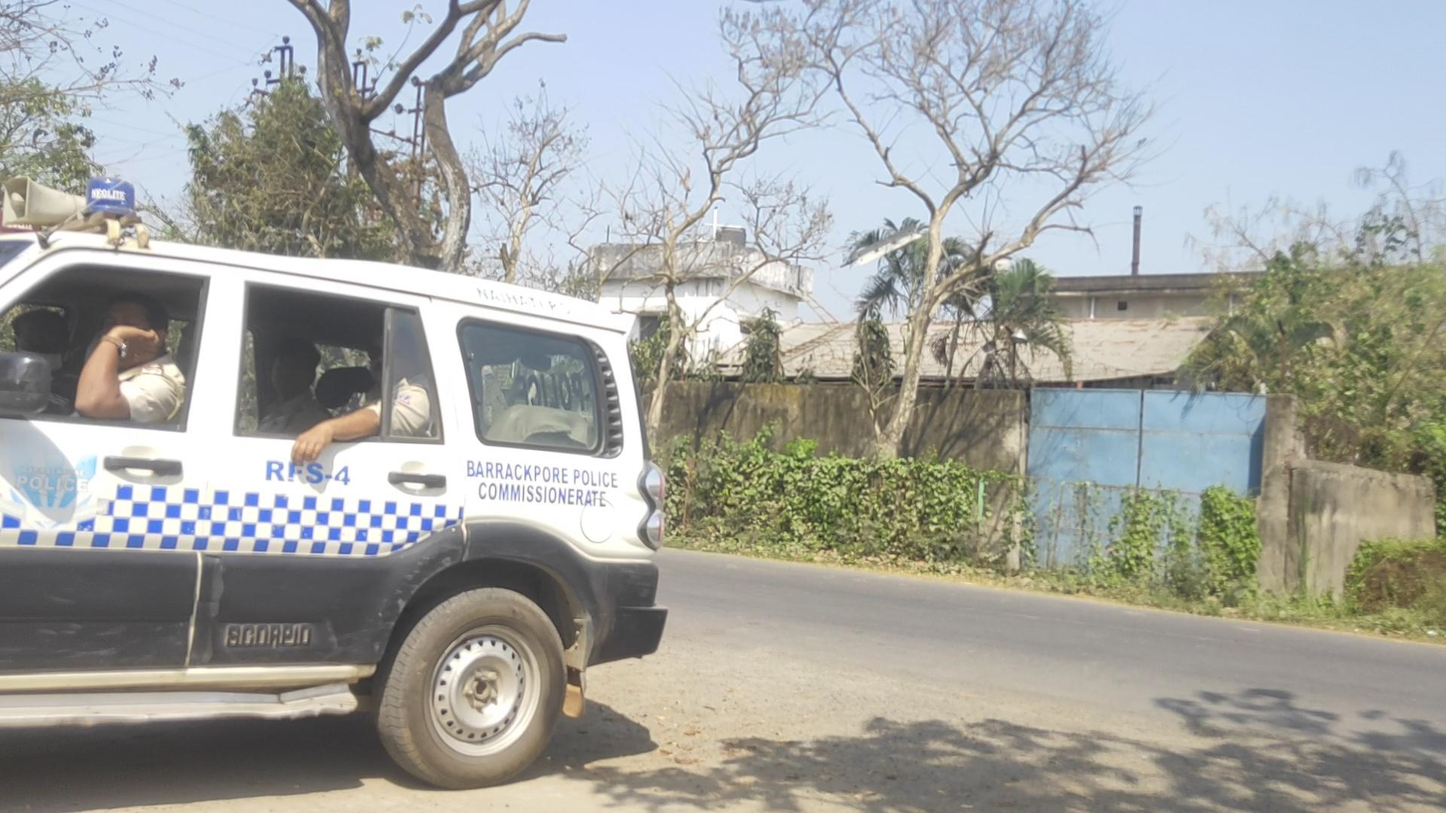car: (2, 173, 668, 790)
